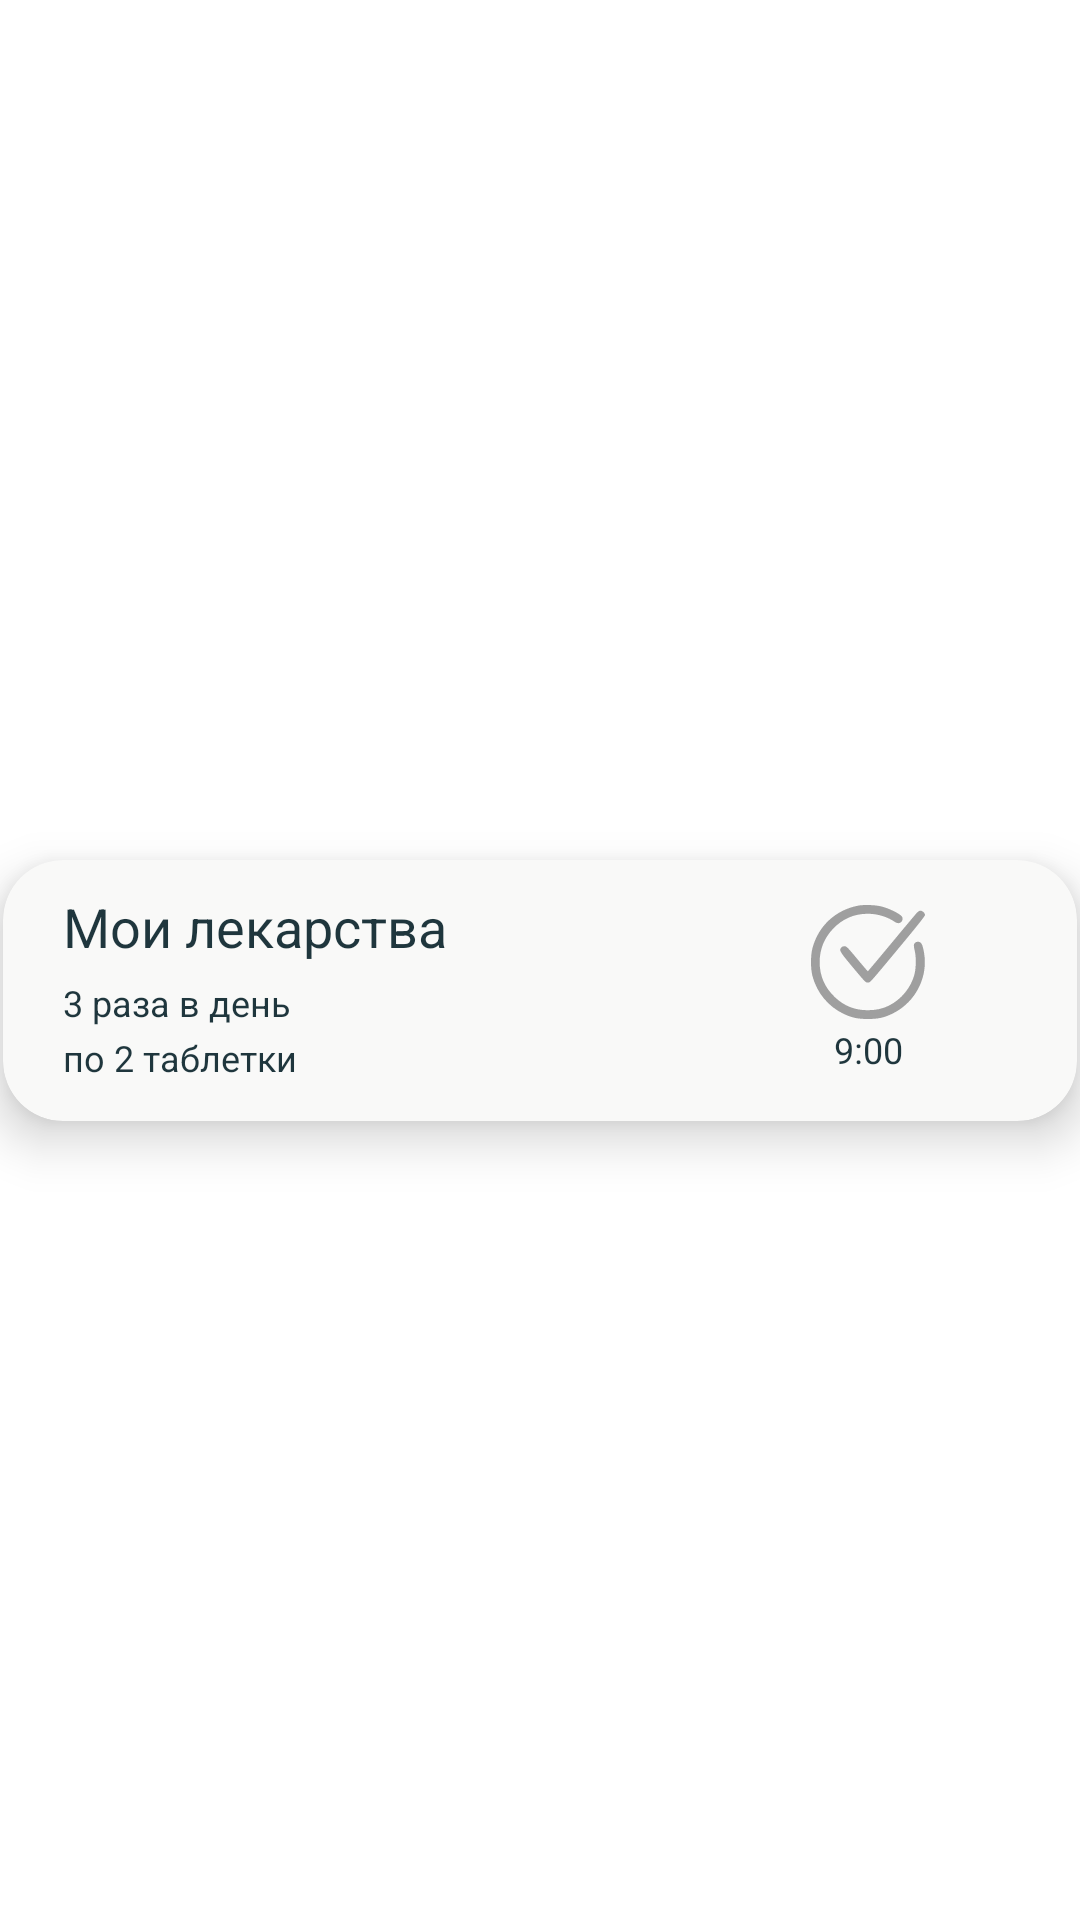

Where icons sit on this 1080*1920 app screen, as (x1, y1, x2, y2):
check: (811, 905, 925, 1019)
